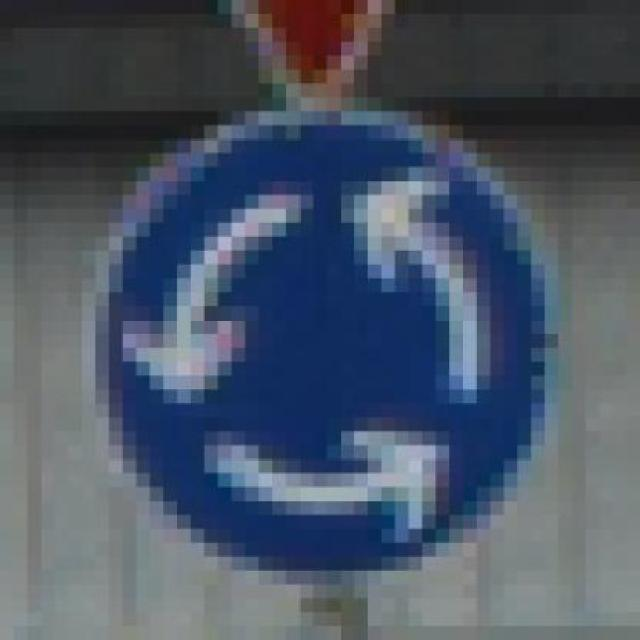Round-About: (54, 83, 572, 585)
